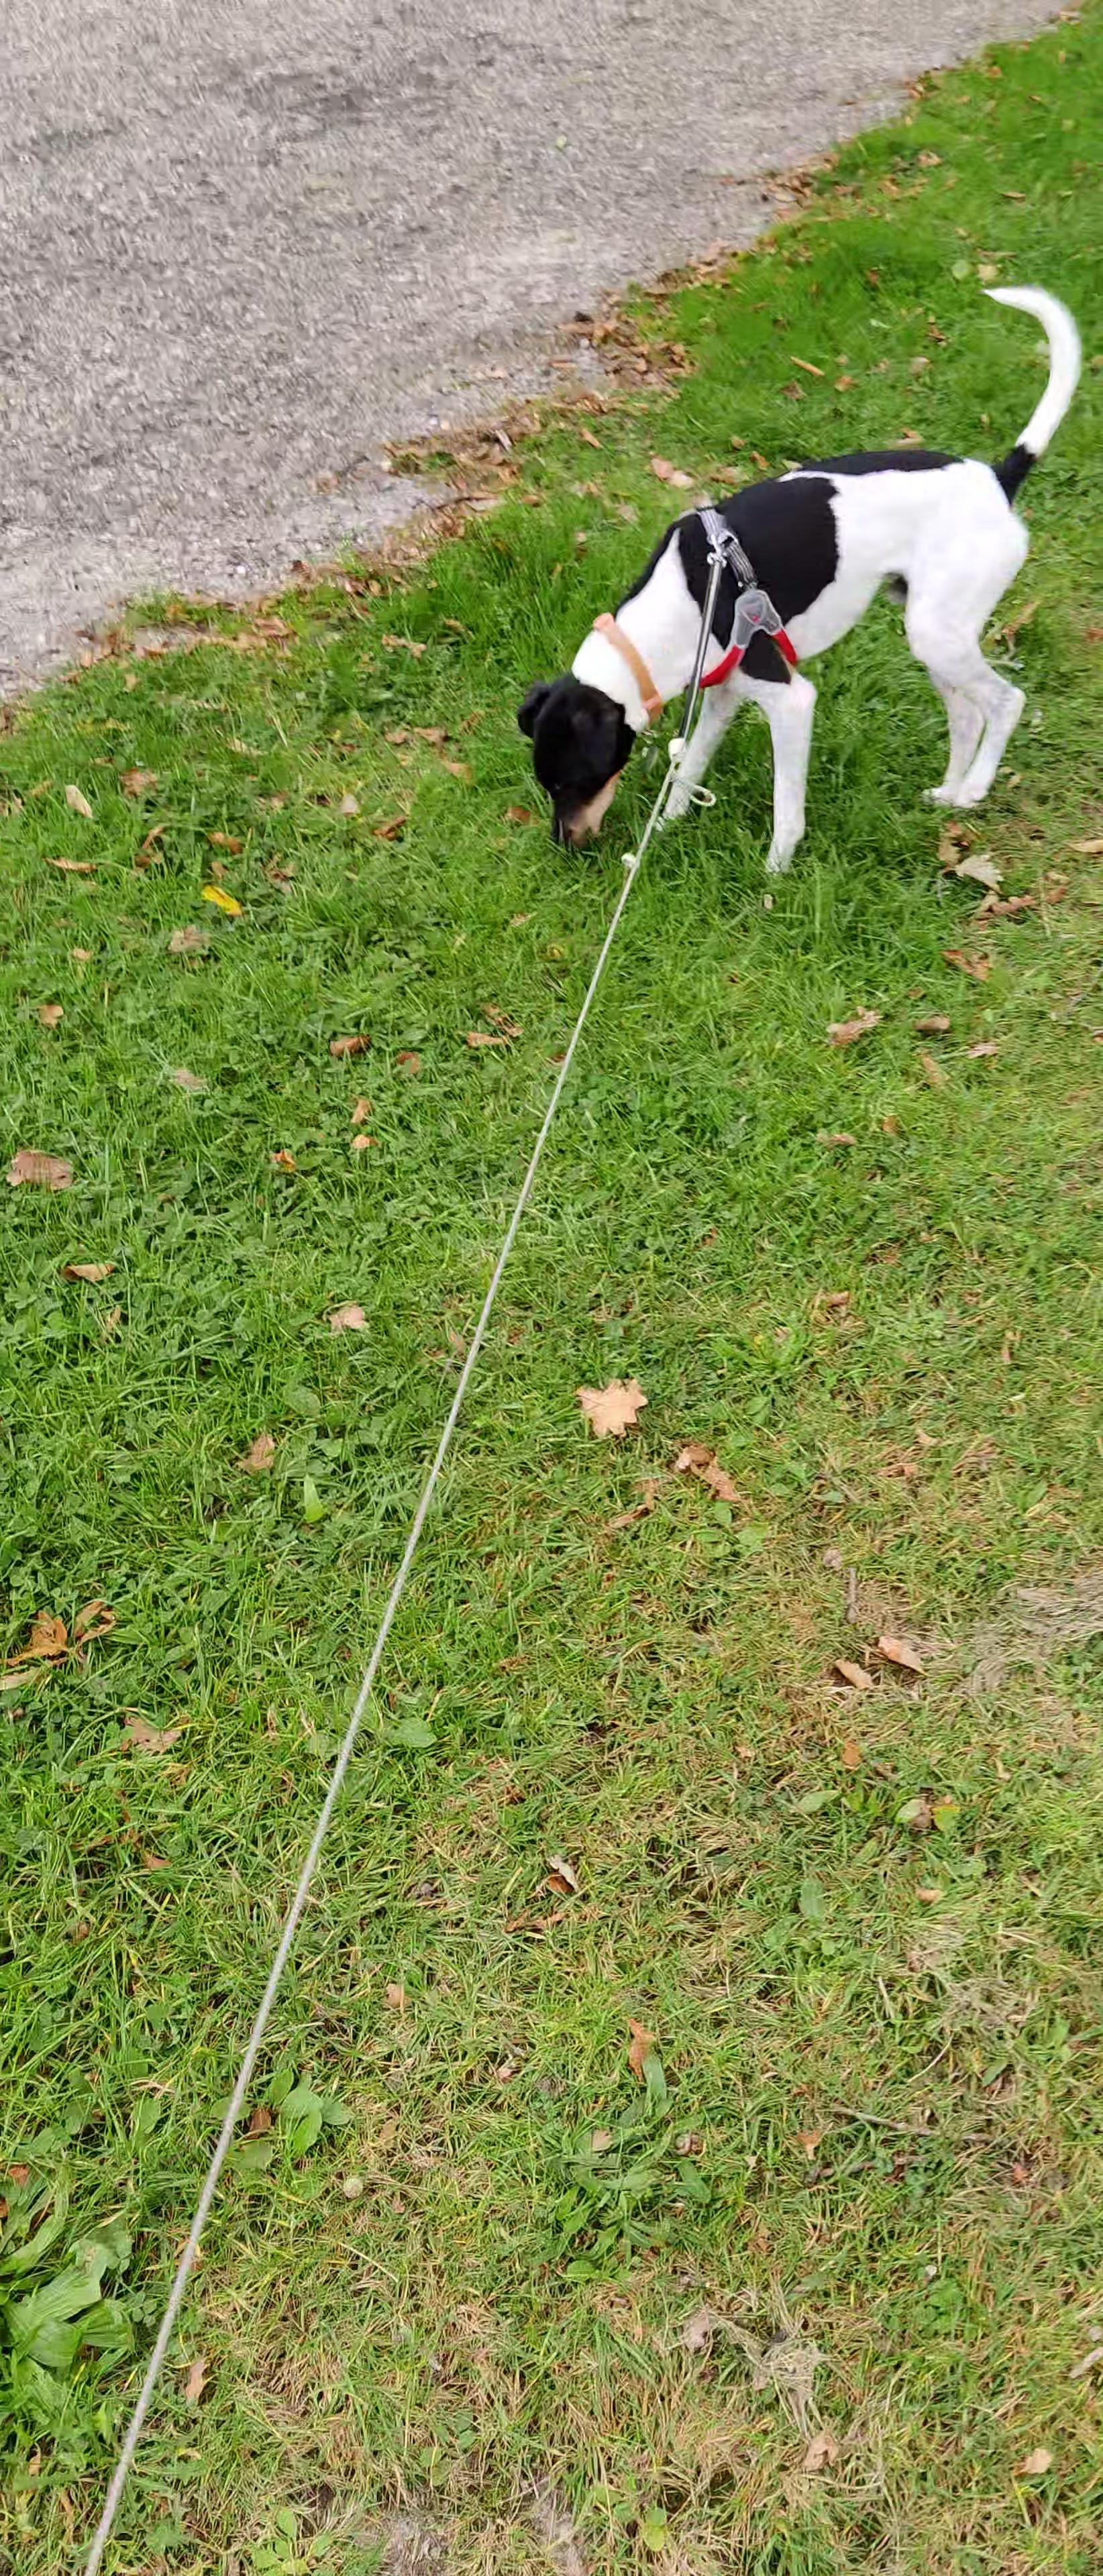Dog: (492, 253, 1093, 862)
